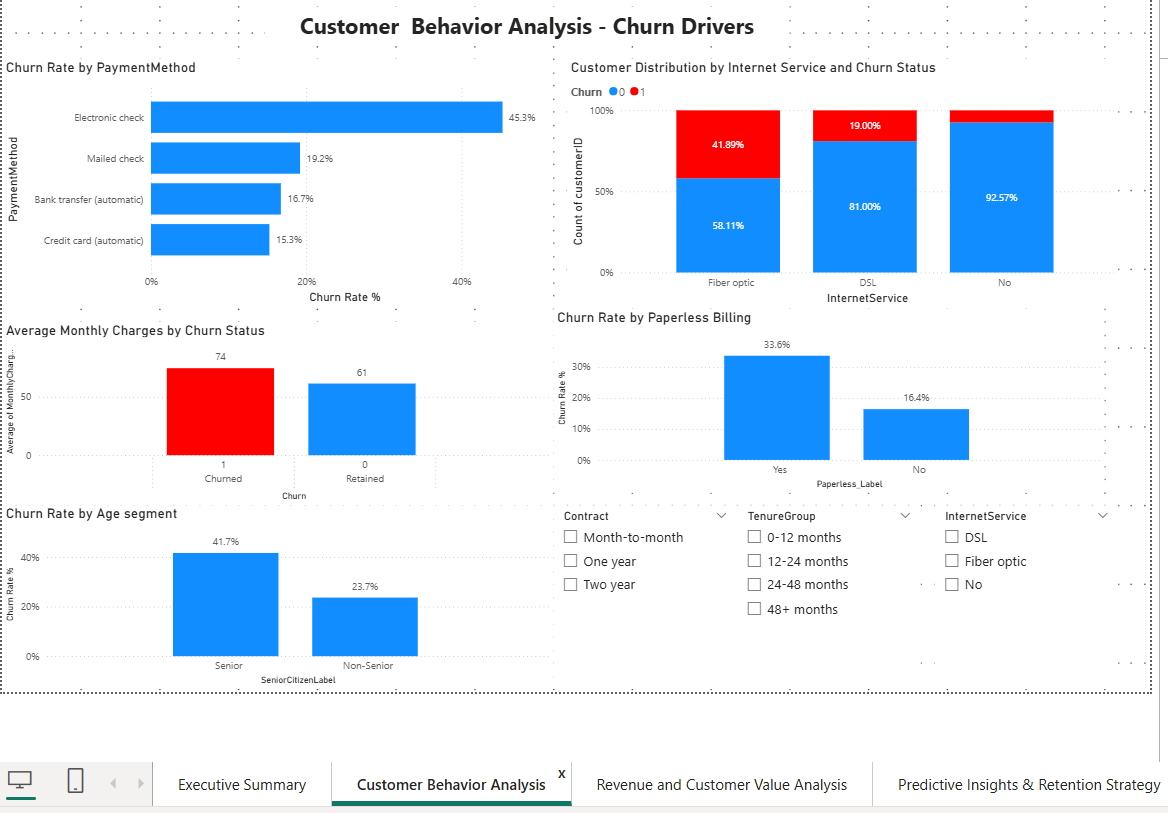

The dashboard page shown, as its layout file describes it:
{"tool":"powerbi","page":{"name":"Customer Behavior Analysis","canvas":[1400,900],"ordinal":1},"visuals":[{"type":"textbox","box":[320,64,640,48],"z":0},{"type":"clusteredBarChart","title":"Churn Rate  by PaymentMethod","fields":{"Category":["clean_telco_churn.PaymentMethod"],"Y":["clean_telco_churn.Churn Rate %"]},"box":[0,128,672,304],"z":1000},{"type":"hundredPercentStackedColumnChart","title":"Customer Distribution by Internet Service and Churn Status","fields":{"Category":["clean_telco_churn.InternetService"],"Y":["CountNonNull(clean_telco_churn.customerID)"],"Series":["clean_telco_churn.Churn"]},"box":[688,128,672,304],"z":2000},{"type":"clusteredColumnChart","title":"Average Monthly Charges by Churn Status","fields":{"Category":["clean_telco_churn.ChurnLabel","clean_telco_churn.Churn"],"Y":["Avg(clean_telco_churn.MonthlyCharges)"]},"box":[0,448,672,224],"z":3000},{"type":"clusteredColumnChart","title":"Churn Rate  by Paperless Billing","fields":{"Category":["clean_telco_churn.Paperless_Label"],"Y":["clean_telco_churn.Churn Rate %"]},"box":[672,432,672,224],"z":3001},{"type":"clusteredColumnChart","title":"Churn Rate  by Age segment","fields":{"Category":["clean_telco_churn.SeniorCitizenLabel"],"Y":["clean_telco_churn.Churn Rate %"]},"box":[0,672,672,224],"z":3002},{"type":"slicer","fields":{"Values":["clean_telco_churn.Contract"]},"box":[672,672,224,224],"z":3003},{"type":"slicer","fields":{"Values":["clean_telco_churn.TenureGroup"]},"box":[896,672,224,224],"z":3004},{"type":"slicer","fields":{"Values":["clean_telco_churn.InternetService"]},"box":[1136,672,224,224],"z":3005}]}

Visuals, with their boxes on the page's 1400x900 design canvas (x1, y1, x2, y2). These are canvas units, not pixel positions in the 1168x813 screenshot, which may show the page scaled, cropped or inside an application window:
textbox: (320, 64, 960, 112)
"Churn Rate  by PaymentMethod" clusteredBarChart: (0, 128, 672, 432)
"Customer Distribution by Internet Service and Churn Status" hundredPercentStackedColumnChart: (688, 128, 1360, 432)
"Average Monthly Charges by Churn Status" clusteredColumnChart: (0, 448, 672, 672)
"Churn Rate  by Paperless Billing" clusteredColumnChart: (672, 432, 1344, 656)
"Churn Rate  by Age segment" clusteredColumnChart: (0, 672, 672, 896)
slicer - clean_telco_churn.Contract: (672, 672, 896, 896)
slicer - clean_telco_churn.TenureGroup: (896, 672, 1120, 896)
slicer - clean_telco_churn.InternetService: (1136, 672, 1360, 896)
